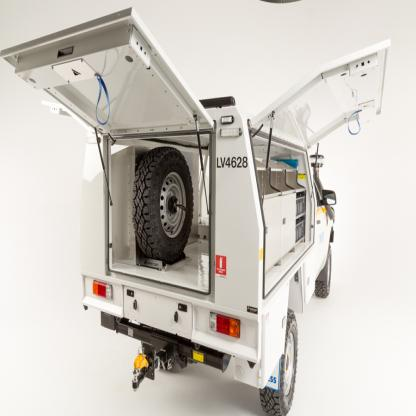light_vehicle: (57, 86, 361, 415)
